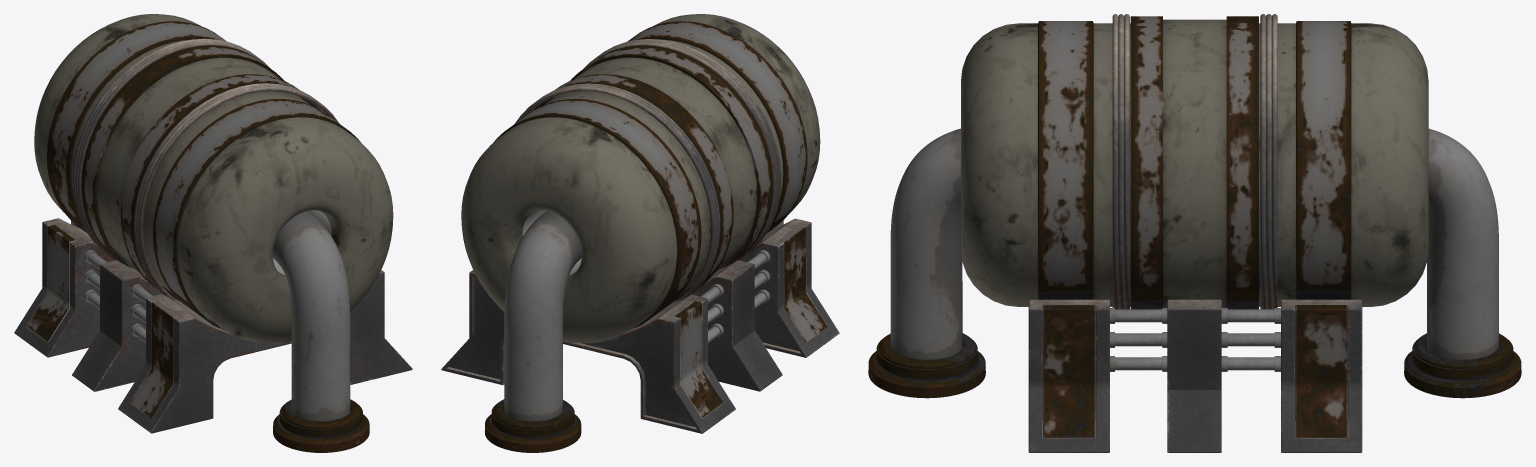
File: watertank.glb
The picture shows the model from 3 angles, left to right: view 1: azimuth 30°, elevation 25°; view 2: azimuth 150°, elevation 25°; view 3: azimuth 270°, elevation 25°; orthographic projection. The views are drawn at different scales.
Visible parts, largest first — view 1: Sci-Fi Water-Tank; view 2: Sci-Fi Water-Tank; view 3: Sci-Fi Water-Tank.
Part boxes in pixels (x1,y1,x2,y2): Sci-Fi Water-Tank: (14, 14, 412, 452); Sci-Fi Water-Tank: (441, 14, 839, 452); Sci-Fi Water-Tank: (868, 14, 1521, 452).
Bounding box in the file's own units: 5.46 × 5.7 × 9.7.
Materials: 1 (1 with a texture image).
